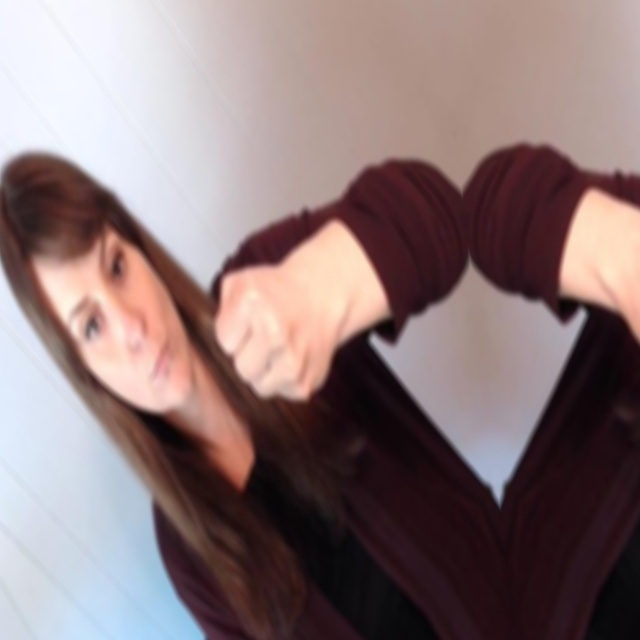Rock: (184, 203, 365, 465)
